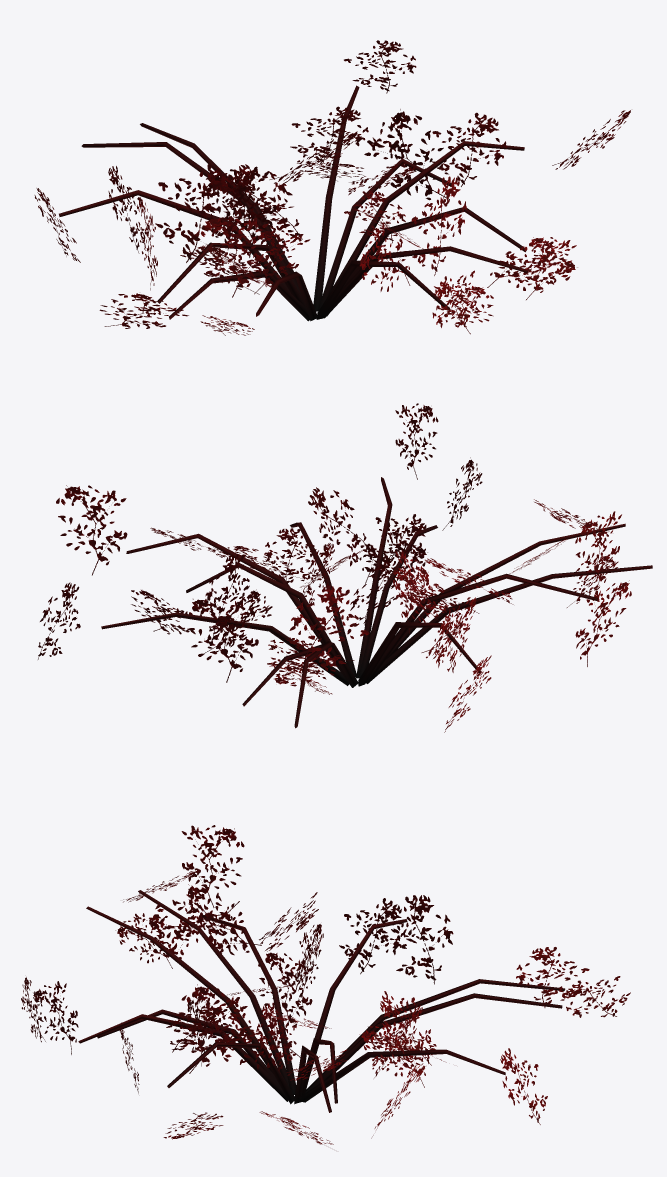
File: bush_tundra_dwarfwillow_a.glb
The picture shows the model from 3 angles, top to bottom: view 1: azimuth 30°, elevation 25°; view 2: azimuth 150°, elevation 25°; view 3: azimuth 270°, elevation 25°; orthographic projection. The views are drawn at different scales.
Parts seen in each view (by area): view 1: bush_tundra_dwarfwillow_a; view 2: bush_tundra_dwarfwillow_a; view 3: bush_tundra_dwarfwillow_a.
Part boxes in pixels (<box>): bush_tundra_dwarfwillow_a: <box>34,40,630,335</box>; bush_tundra_dwarfwillow_a: <box>38,403,652,732</box>; bush_tundra_dwarfwillow_a: <box>21,825,630,1144</box>.
Bounding box in the file's own units: 1.7 × 0.5613 × 1.7.
1 material, 1 textured.
